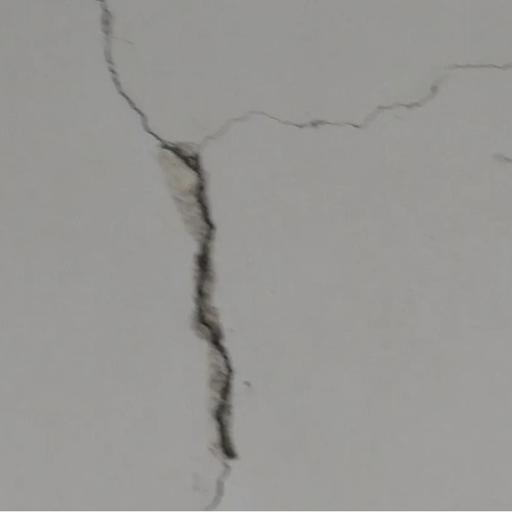major_crack: (80, 0, 290, 484)
